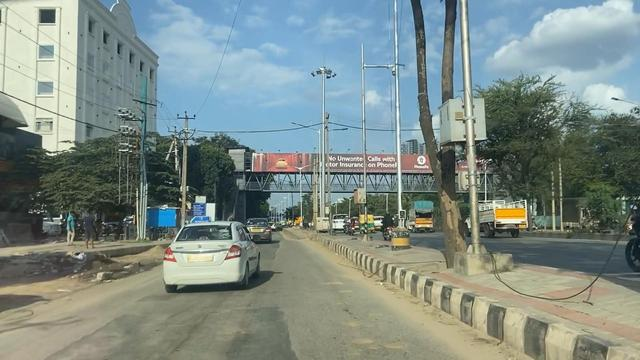LMV: (163, 220, 250, 293), (241, 215, 274, 242)
UnsurfacedRoad: (106, 300, 307, 360)
